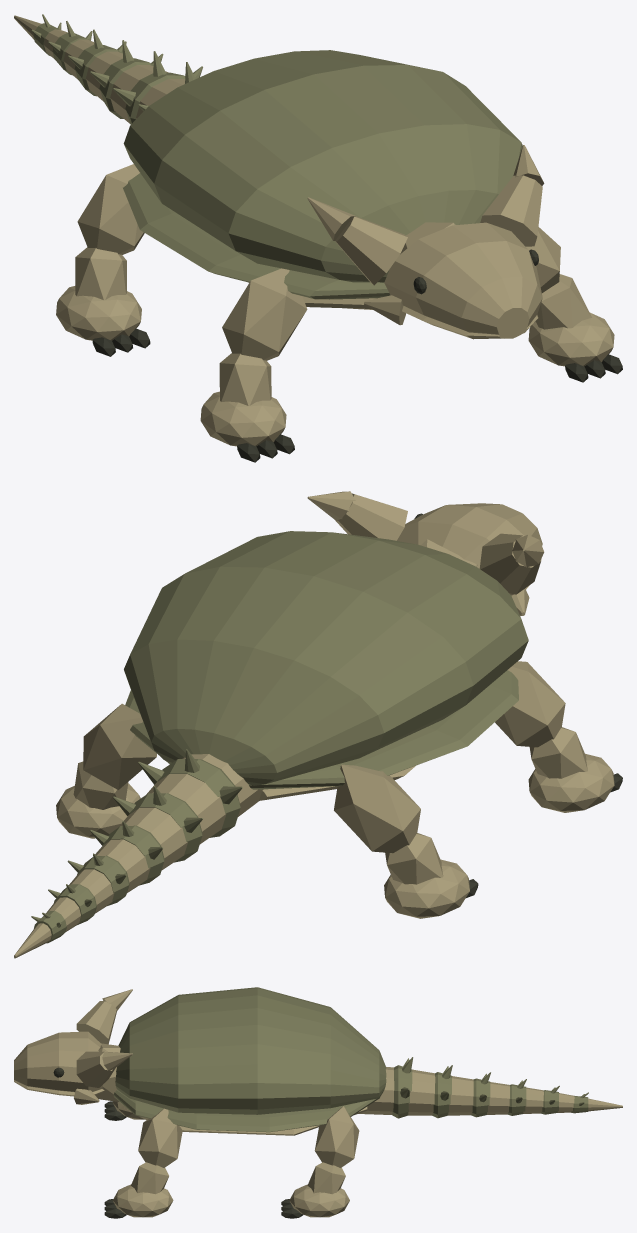
3 views of the same model, one above another, from view 1: azimuth 30°, elevation 25°; view 2: azimuth 150°, elevation 25°; view 3: azimuth 270°, elevation 25° (orthographic). The views are drawn at different scales.
Visible parts, largest first — view 1: surface_olive_brown_shell, surface_ochre_gray_skin, surface_dark_eyes_claws; view 2: surface_olive_brown_shell, surface_ochre_gray_skin; view 3: surface_olive_brown_shell, surface_ochre_gray_skin, surface_dark_eyes_claws.
Boxes of the visible parts, x1,y1,x2,y2 form: surface_olive_brown_shell: (31,14,522,299); surface_ochre_gray_skin: (14,15,614,446); surface_dark_eyes_claws: (92,249,622,462); surface_olive_brown_shell: (31,531,528,943); surface_ochre_gray_skin: (14,491,614,958); surface_olive_brown_shell: (113,987,588,1132); surface_ochre_gray_skin: (14,989,622,1217); surface_dark_eyes_claws: (53,1067,302,1218).
Bounding box in the file's own units: 0.4618 × 0.286 × 1.
